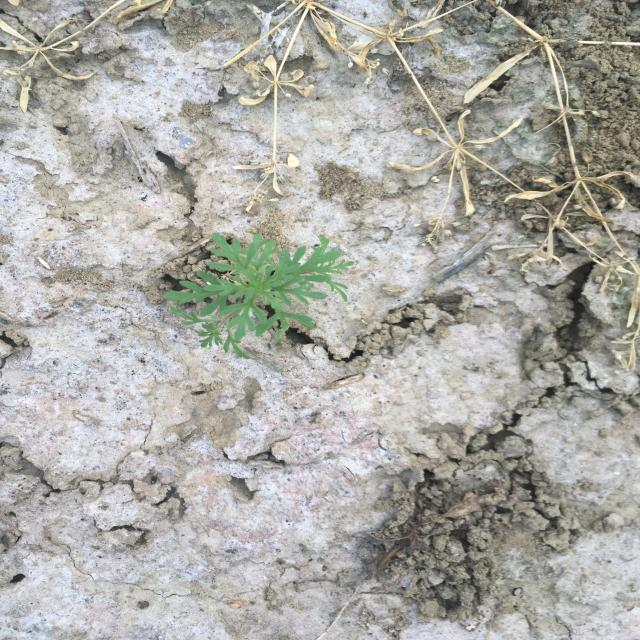Ragweed: (162, 231, 356, 362)
